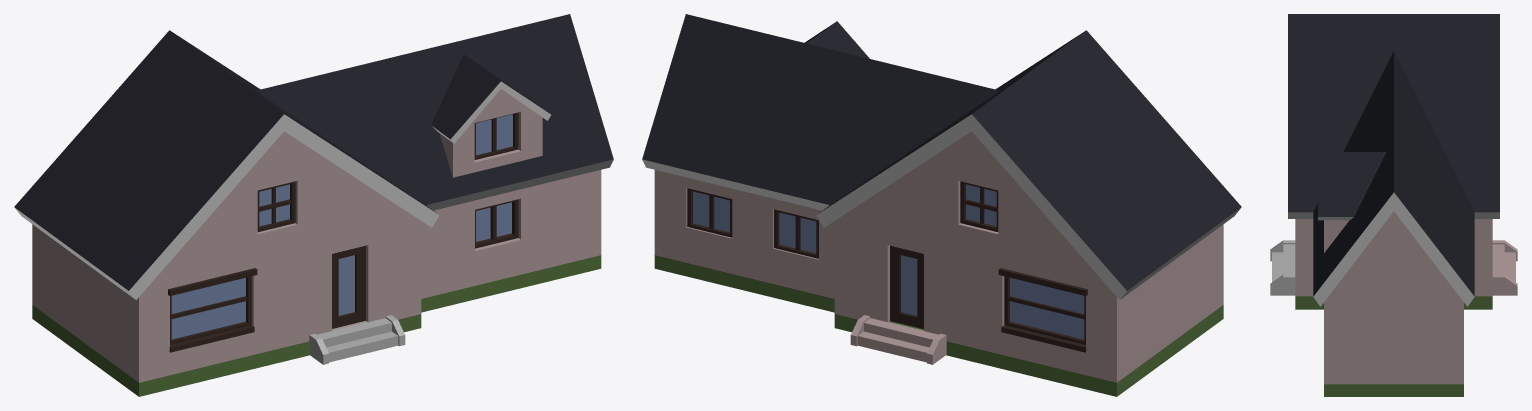
The model's file is FamilyHouse_04.fbx.
The picture shows the model from 3 angles, left to right: view 1: azimuth 30°, elevation 25°; view 2: azimuth 150°, elevation 25°; view 3: azimuth 270°, elevation 25°; orthographic projection. The views are drawn at different scales.
Parts seen in each view (by area): view 1: FamilyHouse_04; view 2: FamilyHouse_04; view 3: FamilyHouse_04.
Part boxes in pixels (x1,y1,x2,y2): FamilyHouse_04: [14, 14, 613, 396]; FamilyHouse_04: [642, 14, 1241, 396]; FamilyHouse_04: [1270, 14, 1517, 396].
Size of the model in its own units: 15.46 by 7.44 by 7.2.
